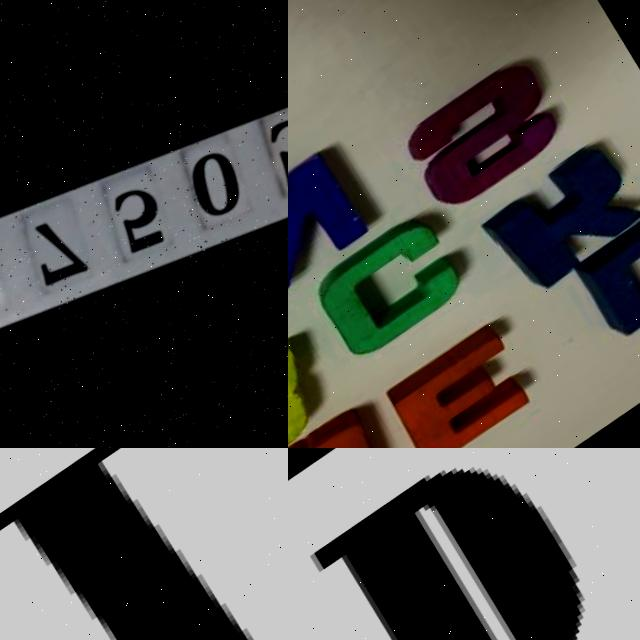0: (159, 131, 278, 253)
1: (0, 224, 43, 347)
5: (87, 168, 198, 282), (242, 99, 288, 213)
7: (1, 192, 125, 318)
B: (312, 471, 586, 640)
C: (310, 208, 488, 370)
D: (569, 196, 640, 355)
E: (385, 324, 551, 448)
I: (0, 448, 288, 640)
K: (480, 148, 640, 307)
N: (288, 148, 389, 315)
R: (288, 338, 347, 448)
S: (395, 54, 586, 227)
W: (288, 402, 417, 448)
